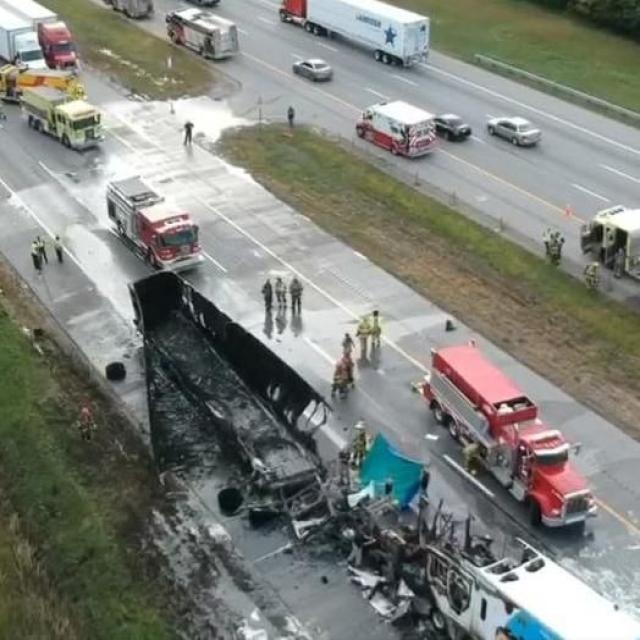traffic_incident: (123, 257, 554, 639)
